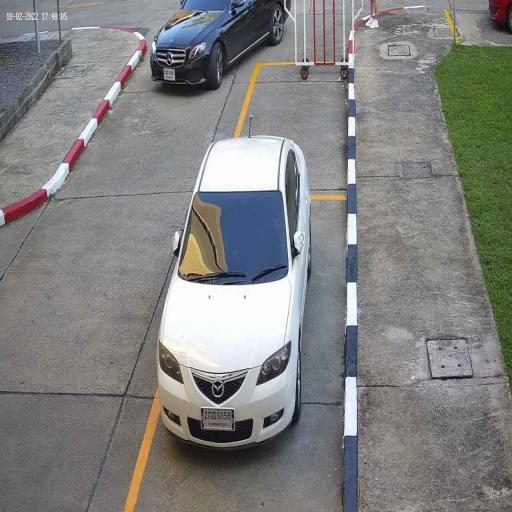car: (154, 134, 312, 452), (149, 0, 293, 91)
